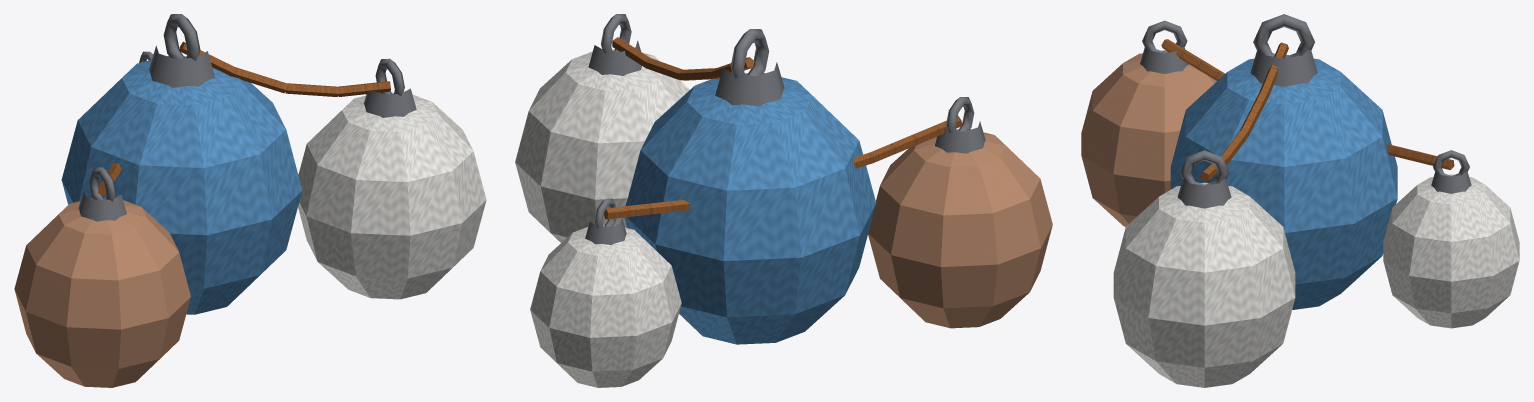
File: greek-island-village-and-harbour-buoy-float-cluster-653a26ed__37113.glb
3 renders of one model, left to right at view 1: azimuth 30°, elevation 25°; view 2: azimuth 150°, elevation 25°; view 3: azimuth 270°, elevation 25°, orthographic. The views are drawn at different scales.
Visible parts, largest first — view 1: buoy-float-cluster; view 2: buoy-float-cluster; view 3: buoy-float-cluster.
Boxes of the visible parts, left/top/right/bottom form: buoy-float-cluster: left=14, top=14, right=486, bottom=387; buoy-float-cluster: left=515, top=14, right=1052, bottom=387; buoy-float-cluster: left=1081, top=14, right=1519, bottom=387.
Size of the model in its own units: 1.34 by 0.798 by 1.1.
Materials: 5 (4 with a texture image).
